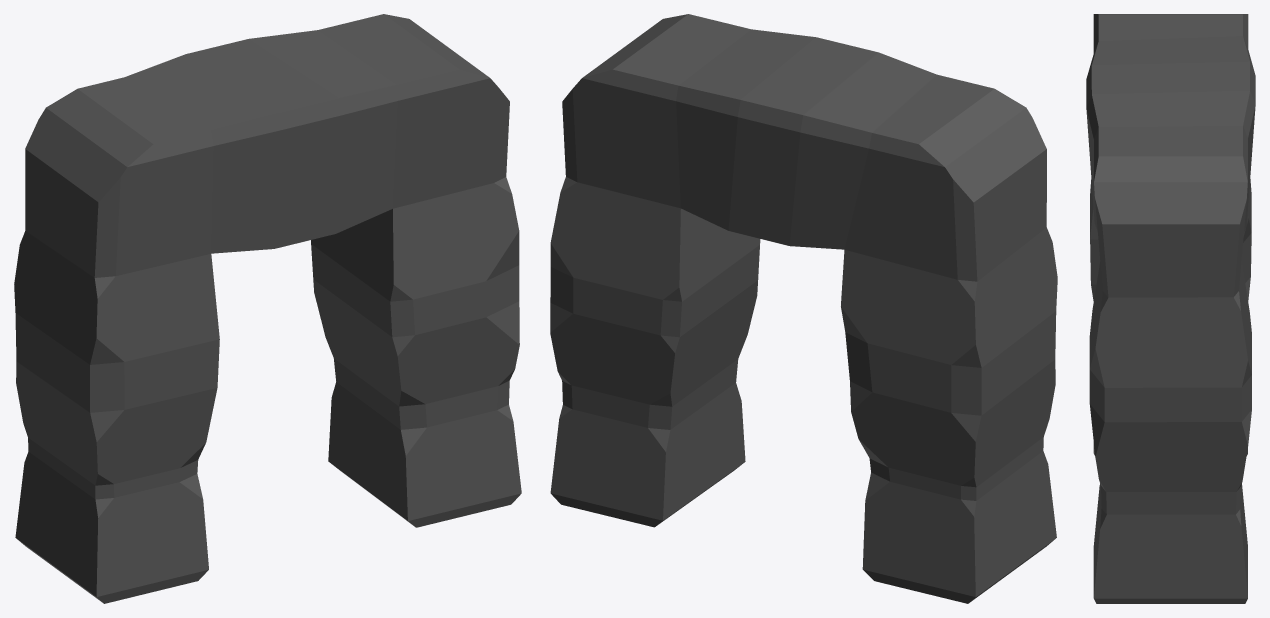
The model's file is BearingWall.glb.
The picture shows the model from 3 angles, left to right: view 1: azimuth 30°, elevation 25°; view 2: azimuth 150°, elevation 25°; view 3: azimuth 270°, elevation 25°; orthographic projection. The views are drawn at different scales.
Visible parts, largest first — view 1: BearingWall; view 2: BearingWall; view 3: BearingWall.
Part boxes in pixels (x1=…): BearingWall: x1=14, y1=14, x2=521, y2=603; BearingWall: x1=550, y1=14, x2=1057, y2=603; BearingWall: x1=1086, y1=14, x2=1255, y2=603.
Bounding box in the file's own units: 3.03 × 3.03 × 1.09.
1 material, 1 textured.
